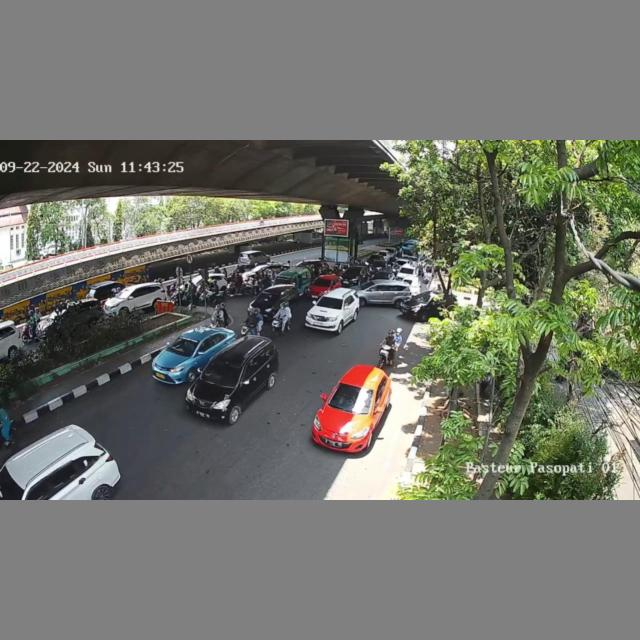windshield: (327, 383, 375, 413), (199, 360, 243, 387), (164, 334, 200, 354), (317, 295, 344, 310), (256, 290, 279, 302), (312, 278, 332, 287)
